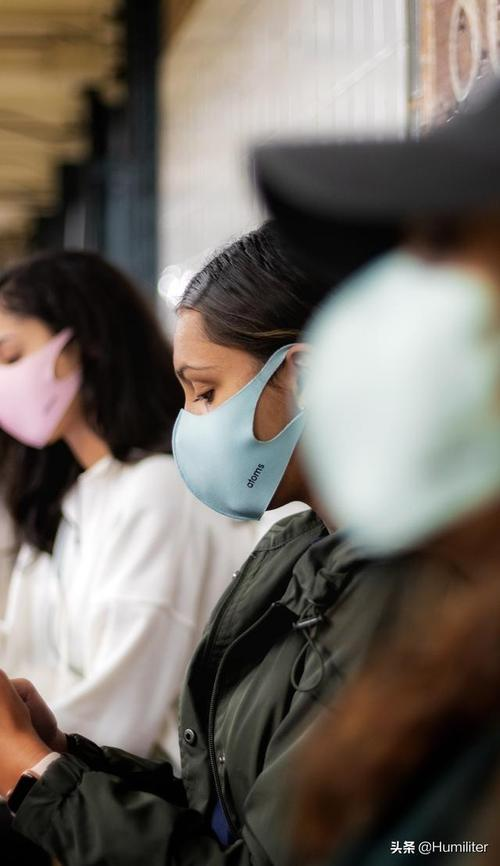mask: (163, 272, 312, 519)
